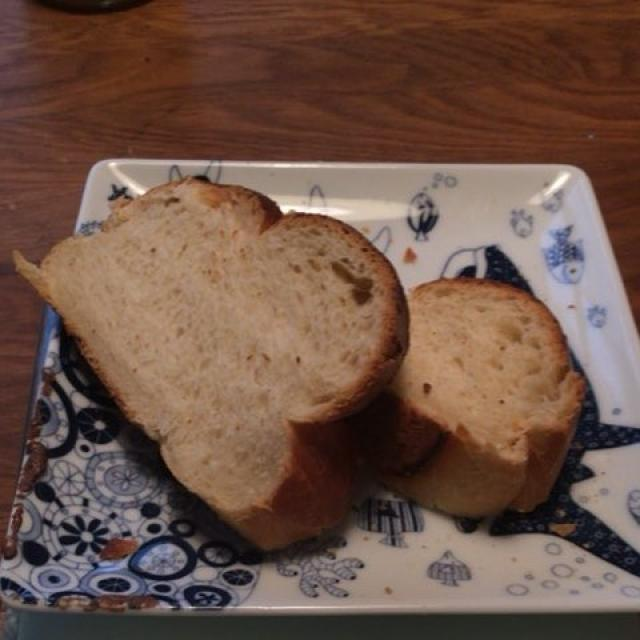bread: (19, 167, 594, 543)
